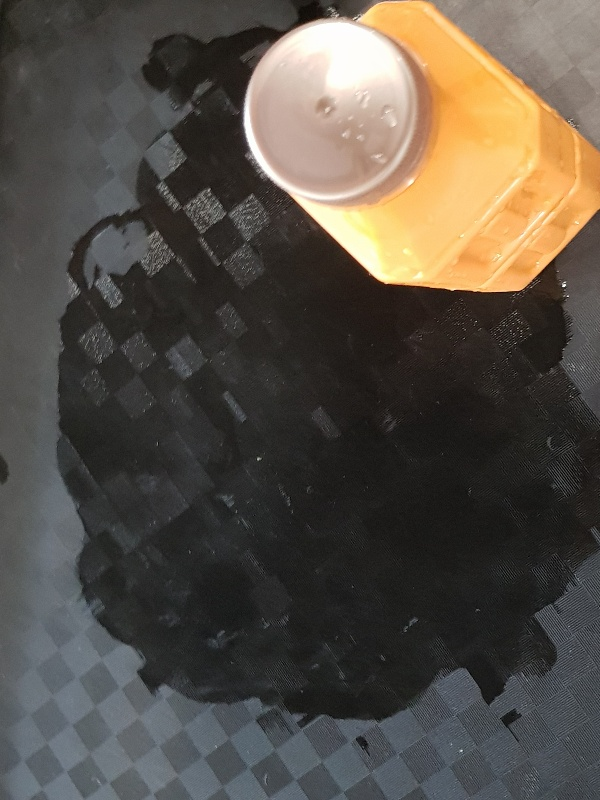Thai Milk Tea: (241, 1, 600, 295)
